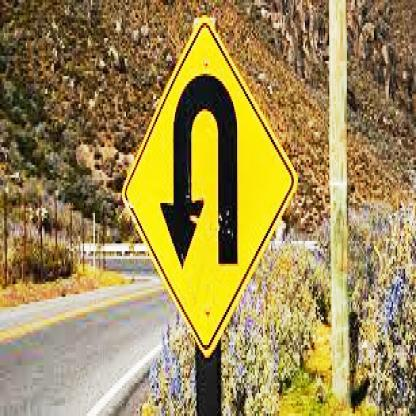U-turn: (118, 19, 297, 350)
